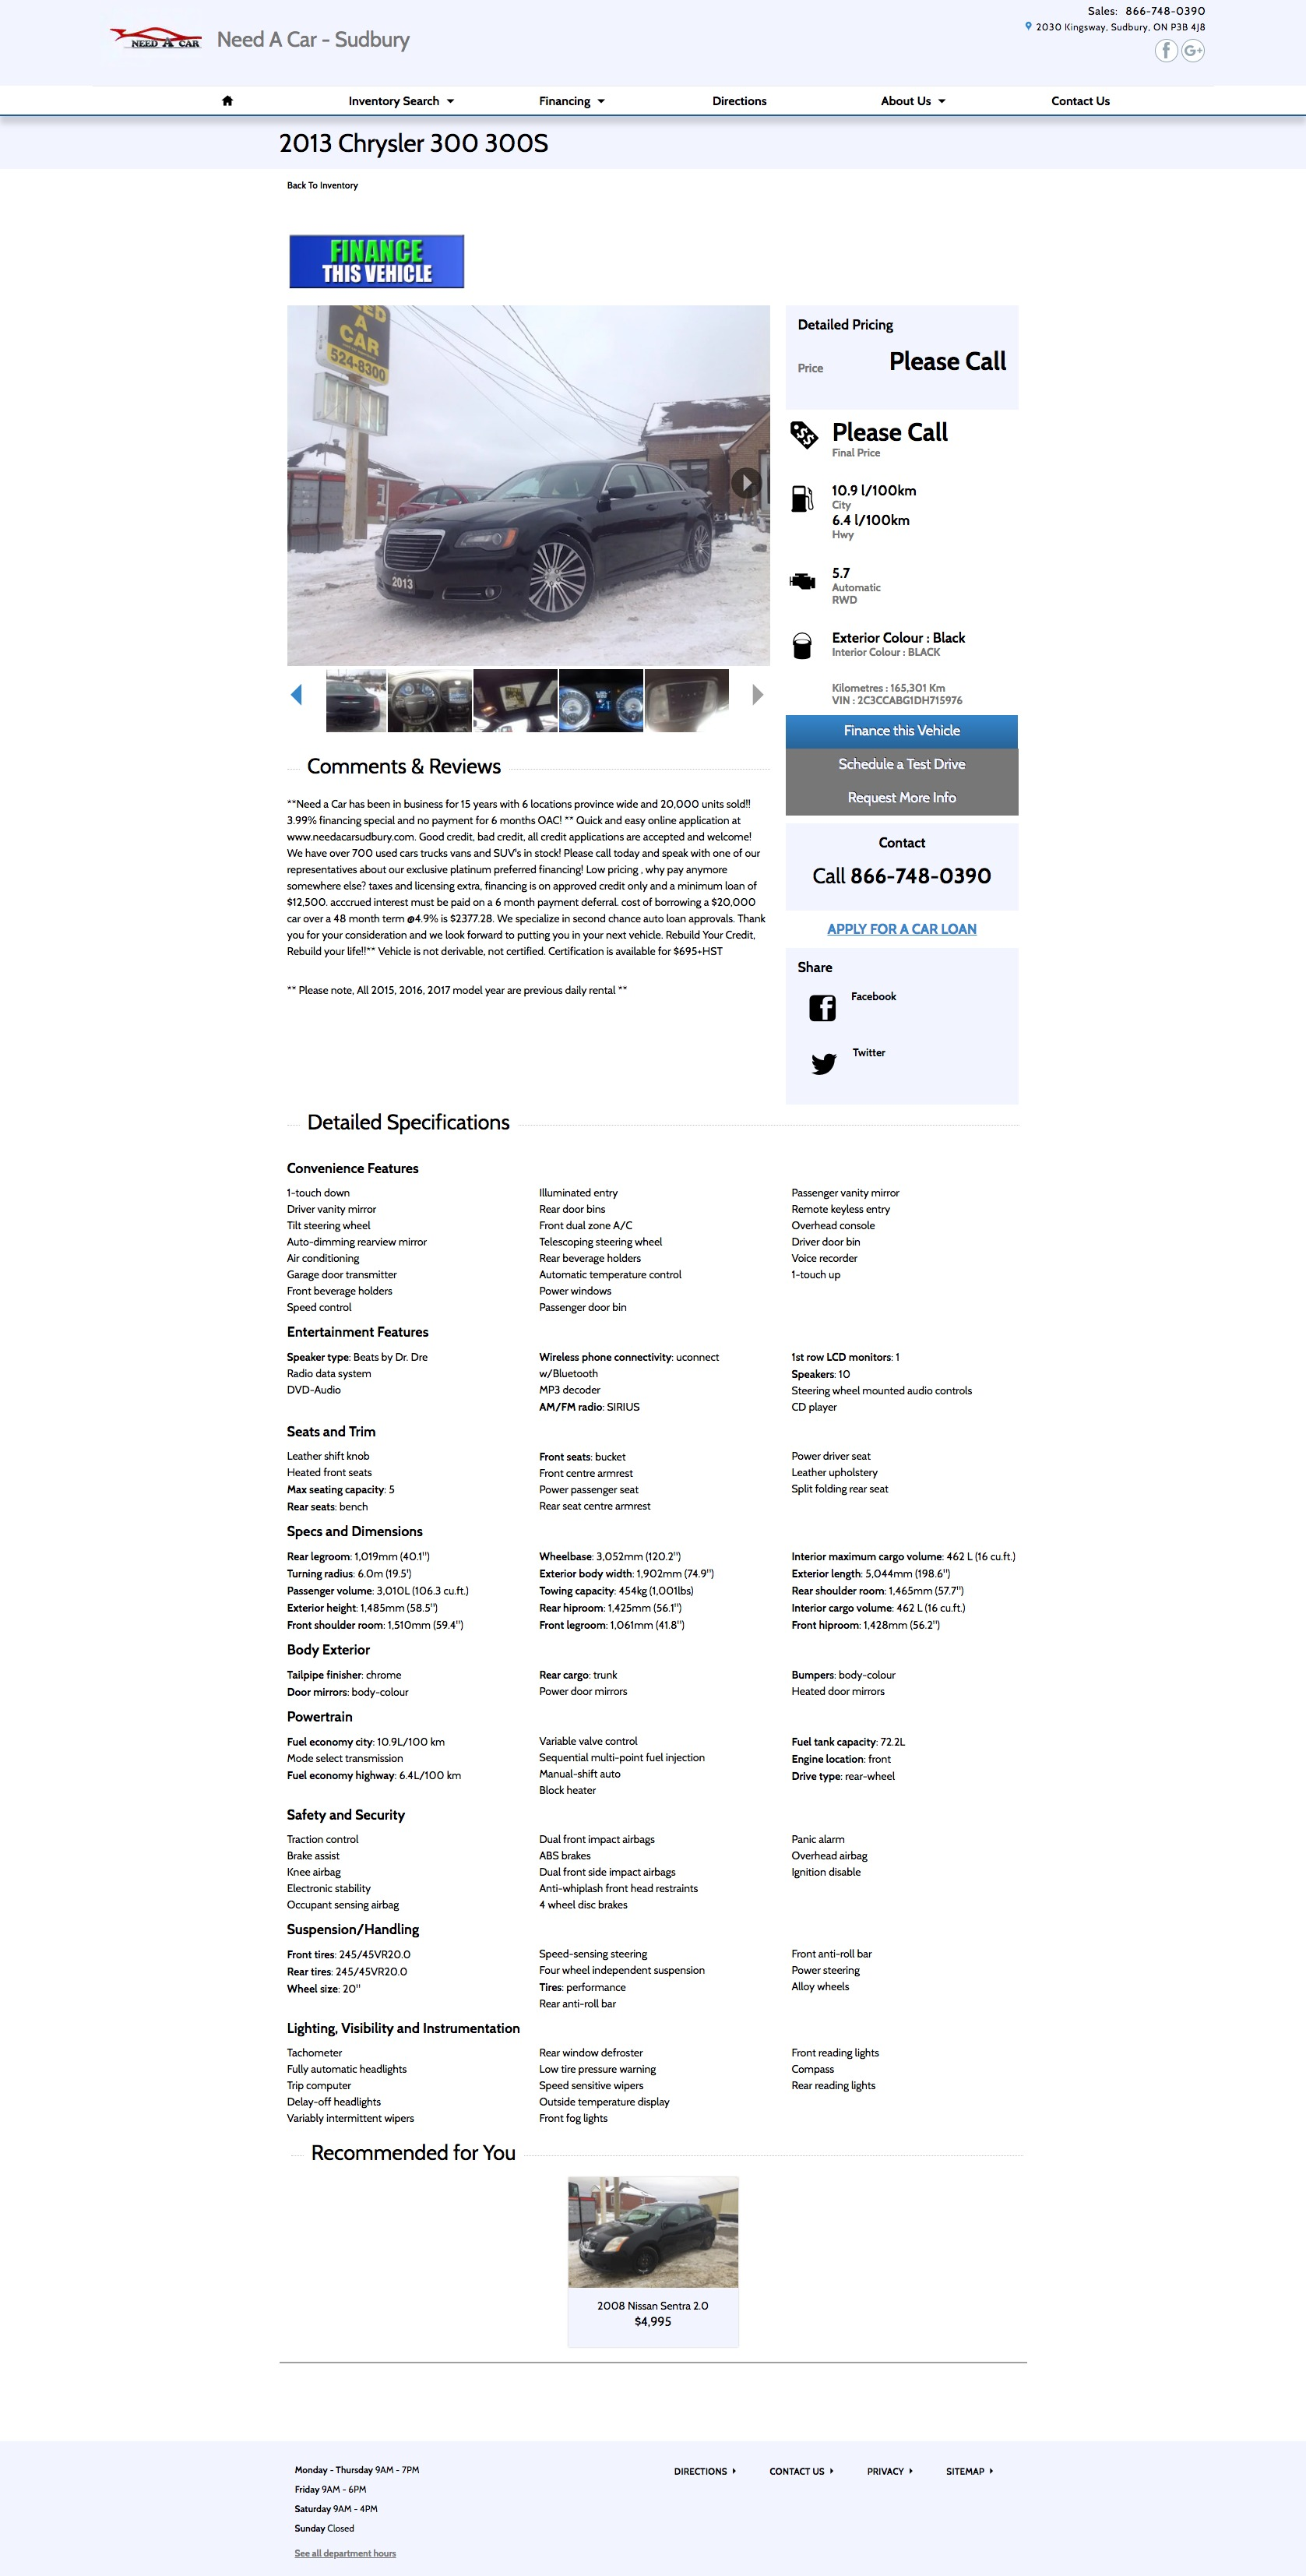car: (753, 684, 766, 708)
